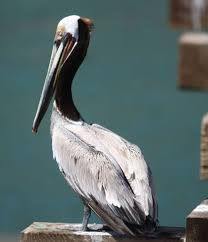pelican: (31, 15, 159, 238)
